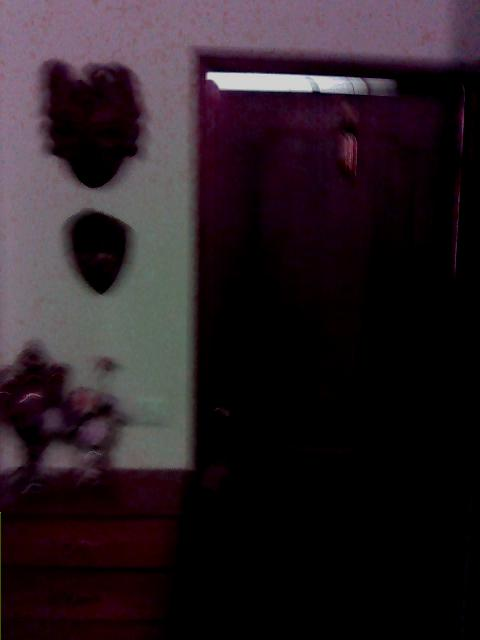closed_door: (186, 53, 479, 638)
